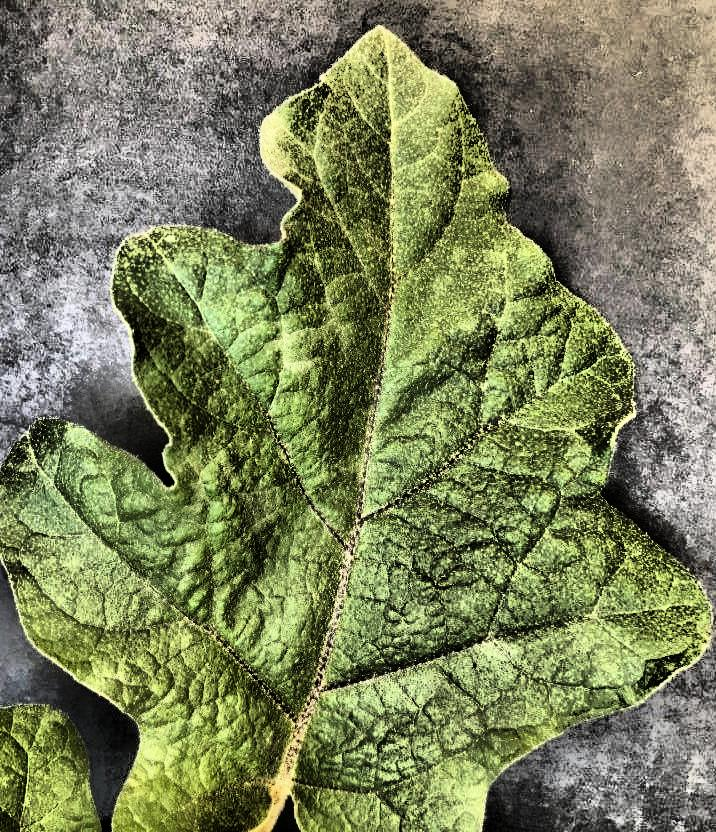HEALTHY: (1, 1, 716, 832)
